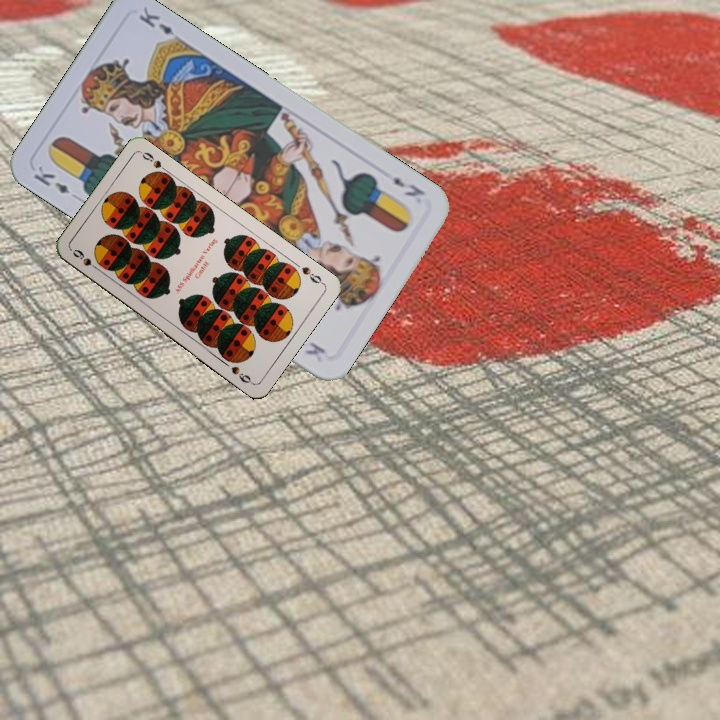EK: (29, 161, 72, 197), (389, 172, 428, 200)
S9: (68, 245, 103, 274), (298, 262, 327, 287)
